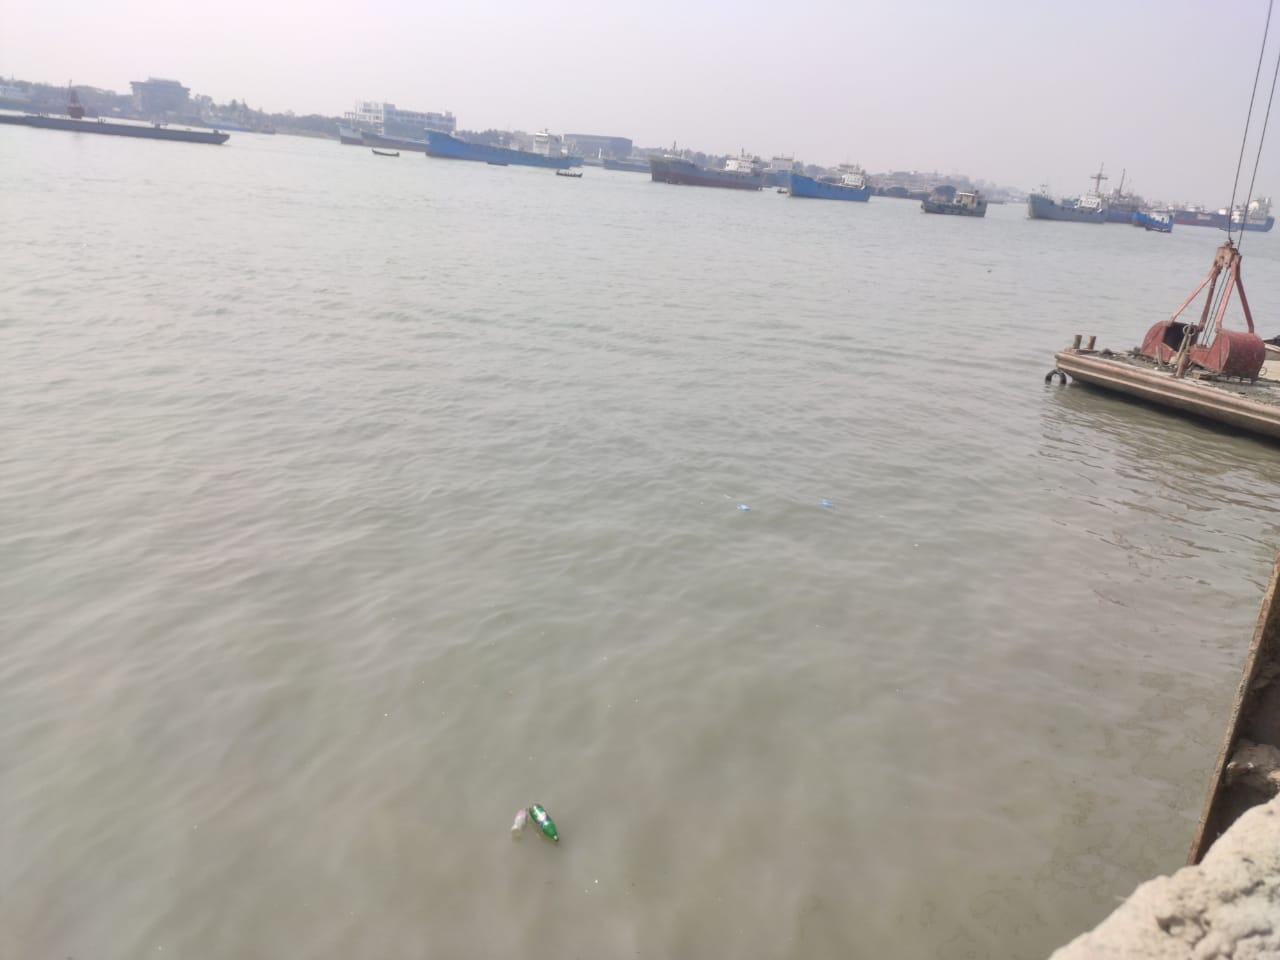Plastic Bottle: (530, 803, 558, 841), (511, 807, 528, 836)
